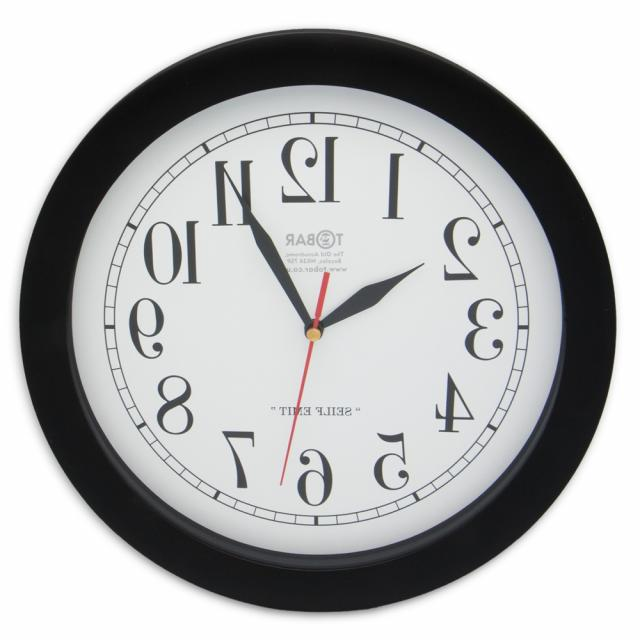clock: (0, 42, 640, 640)
